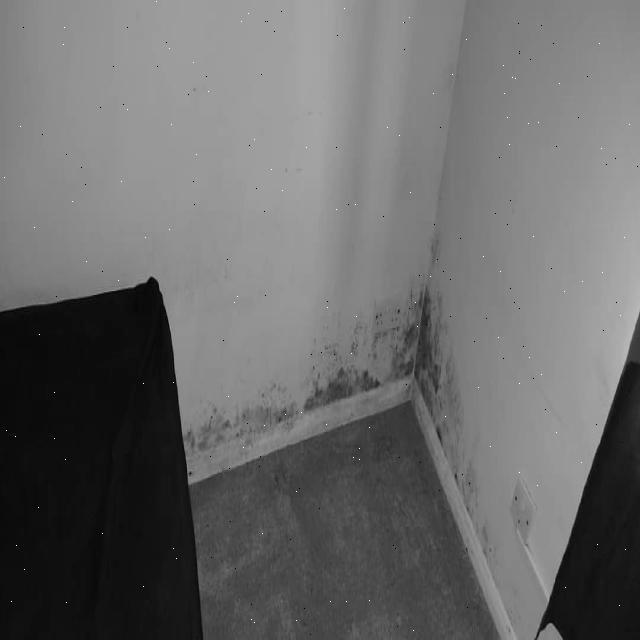stain marks: (180, 234, 436, 486), (414, 167, 521, 625), (392, 258, 450, 422), (292, 354, 400, 420)
